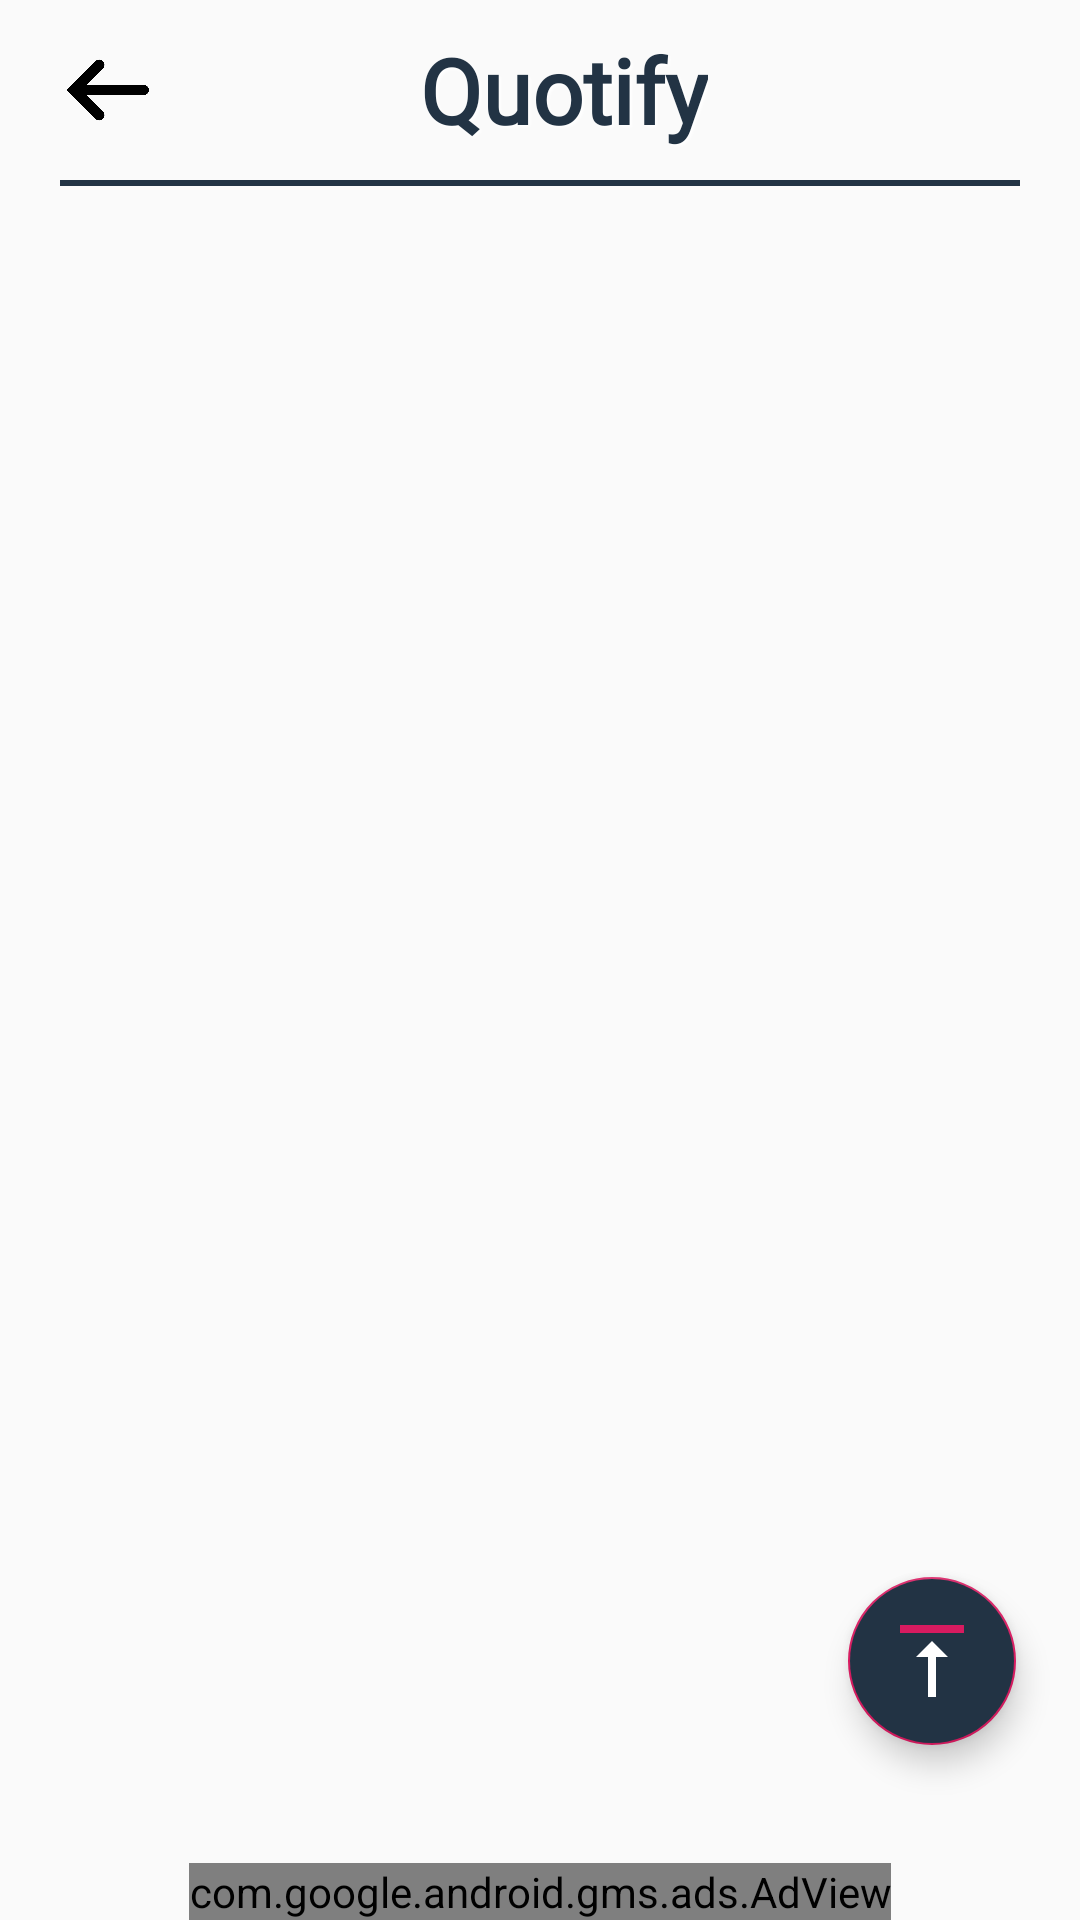

Point at icon controls on the screen. Image size 1080w x 1920h, points as point (x, y).
back: point (108, 90)
top: point (932, 1661)
